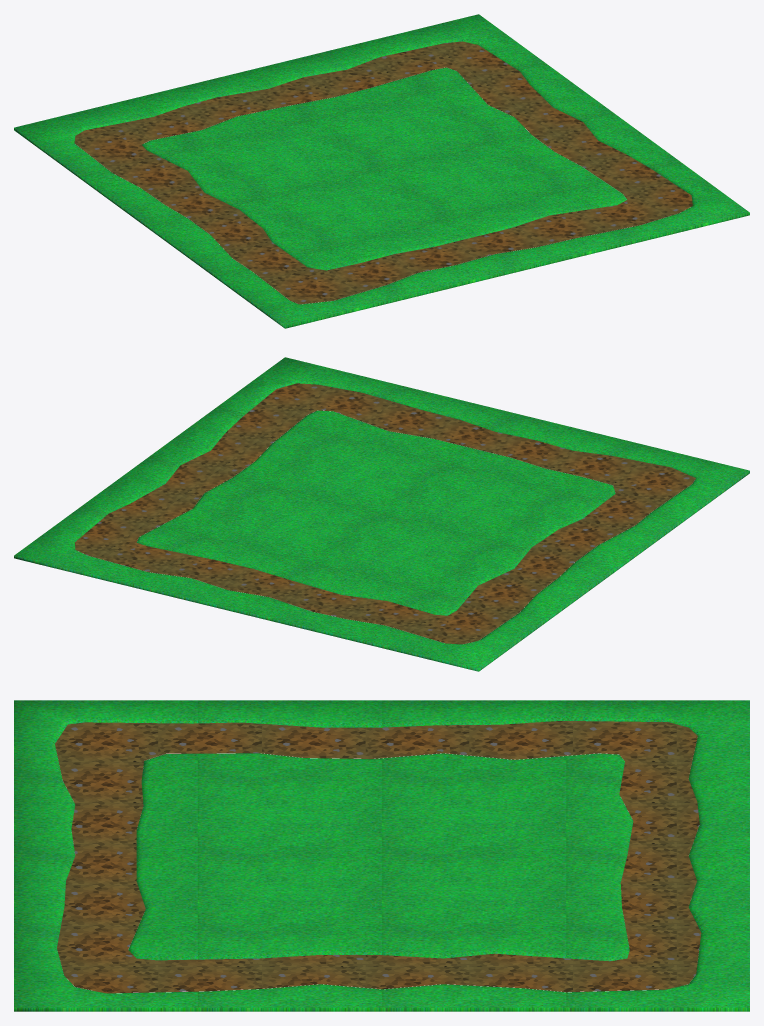
File: Terrain.FBX
3 views of the same model, one above another, from view 1: azimuth 30°, elevation 25°; view 2: azimuth 150°, elevation 25°; view 3: azimuth 270°, elevation 25° (orthographic). The views are drawn at different scales.
Visible parts, largest first — view 1: Terrain; view 2: Terrain; view 3: Terrain.
Part boxes in pixels (x1,y1,x2,y2): Terrain: (14,14,749,328); Terrain: (14,357,749,671); Terrain: (14,700,749,1011).
Bounding box in the file's own units: 990 × 5.53 × 1000.
Materials: 2 (2 with a texture image).
